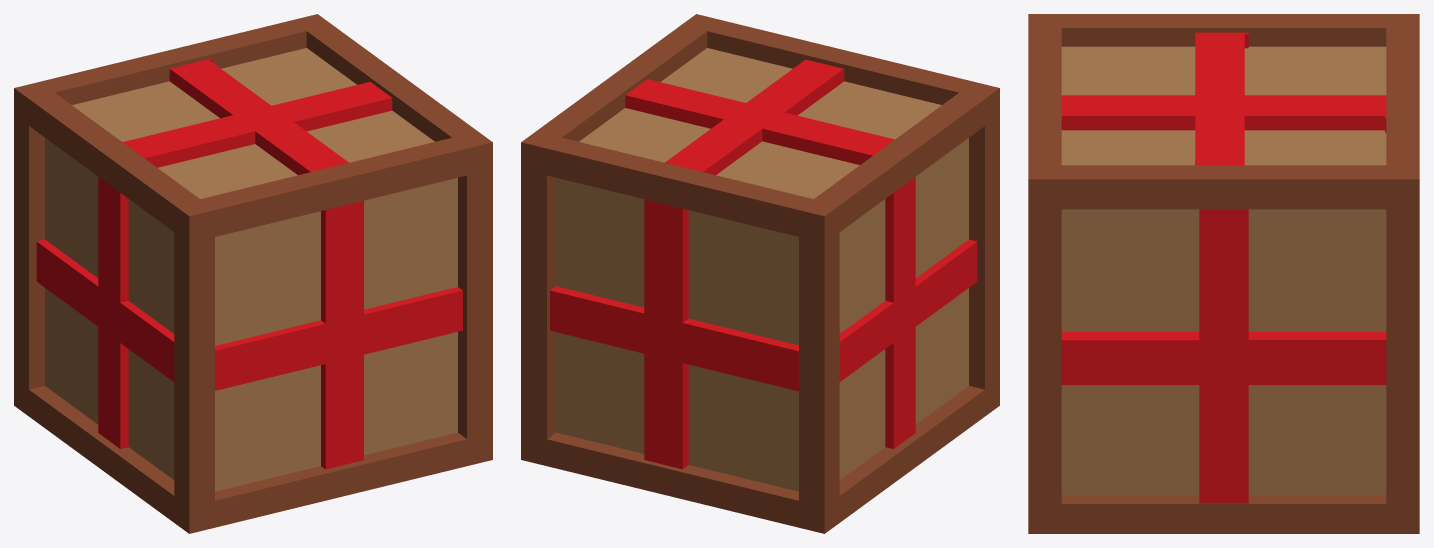
Rendered from PlusCrate.glb.
3 views of the same model, side by side, from view 1: azimuth 30°, elevation 25°; view 2: azimuth 150°, elevation 25°; view 3: azimuth 270°, elevation 25° (orthographic). The views are drawn at different scales.
Visible parts, largest first — view 1: PlusCrate, Cube.007, Cube.008, Cube.006; view 2: PlusCrate, Cube.009, Cube.008, Cube.006; view 3: PlusCrate, Cube.010, Cube.008.
Part boxes in pixels (x1,y1,x2,y2): PlusCrate: [14, 14, 492, 533]; Cube.007: [215, 200, 462, 469]; Cube.008: [122, 59, 392, 175]; Cube.006: [36, 177, 174, 448]; PlusCrate: [521, 14, 999, 533]; Cube.009: [550, 199, 798, 469]; Cube.008: [625, 59, 894, 175]; Cube.006: [839, 177, 977, 448]; PlusCrate: [1028, 14, 1419, 533]; Cube.010: [1061, 209, 1386, 503]; Cube.008: [1062, 32, 1386, 165].
Bounding box in the file's own units: 1 × 1 × 1.
